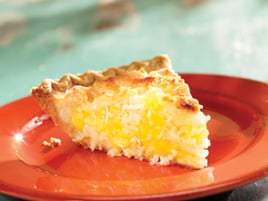sushi: (14, 55, 211, 170)
